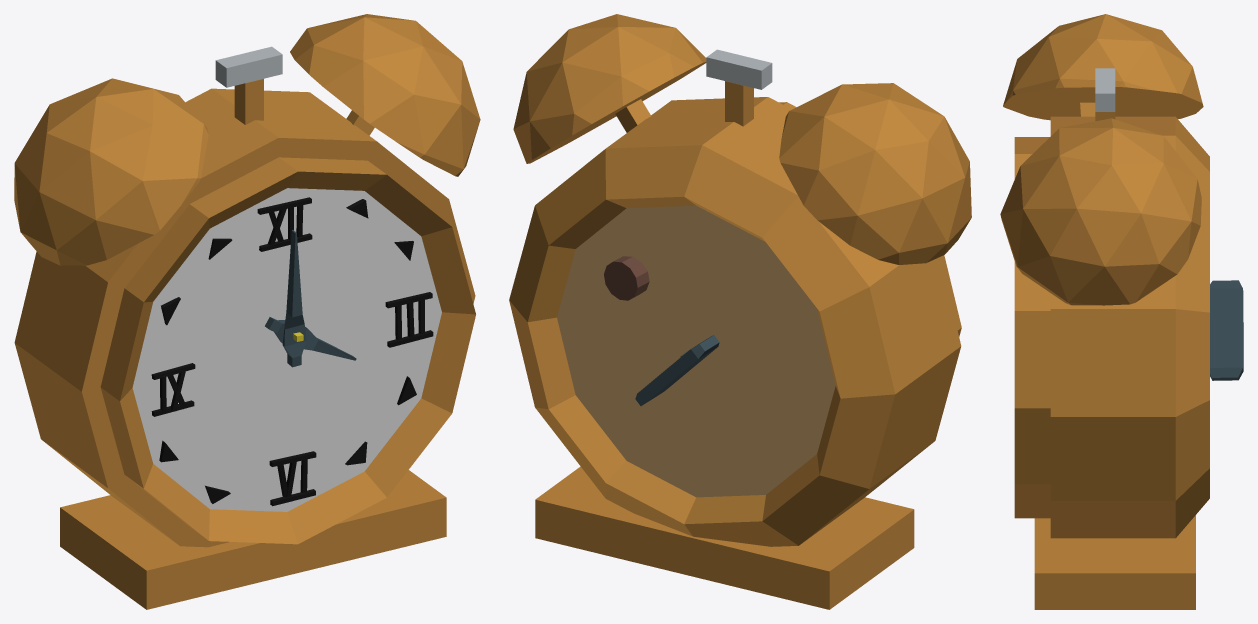
The model's file is Clock1.glb.
The picture shows the model from 3 angles, left to right: view 1: azimuth 30°, elevation 25°; view 2: azimuth 150°, elevation 25°; view 3: azimuth 270°, elevation 25°; orthographic projection. The views are drawn at different scales.
Parts seen in each view (by area): view 1: node_MeshObject1790013504-PolyPaper21; view 2: node_MeshObject1790013504-PolyPaper21; view 3: node_MeshObject1790013504-PolyPaper21.
Boxes of the visible parts, bbox=[...] form: node_MeshObject1790013504-PolyPaper21: bbox=[14, 14, 480, 609]; node_MeshObject1790013504-PolyPaper21: bbox=[509, 14, 971, 609]; node_MeshObject1790013504-PolyPaper21: bbox=[1000, 14, 1243, 609].
Size of the model in its own units: 0.2328 by 0.254 by 0.1207.
